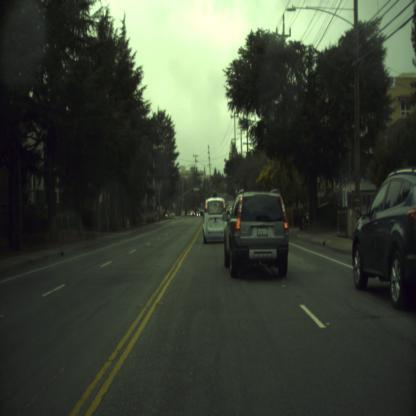Green: (206, 190, 208, 198), (225, 199, 226, 208), (212, 190, 213, 198)
